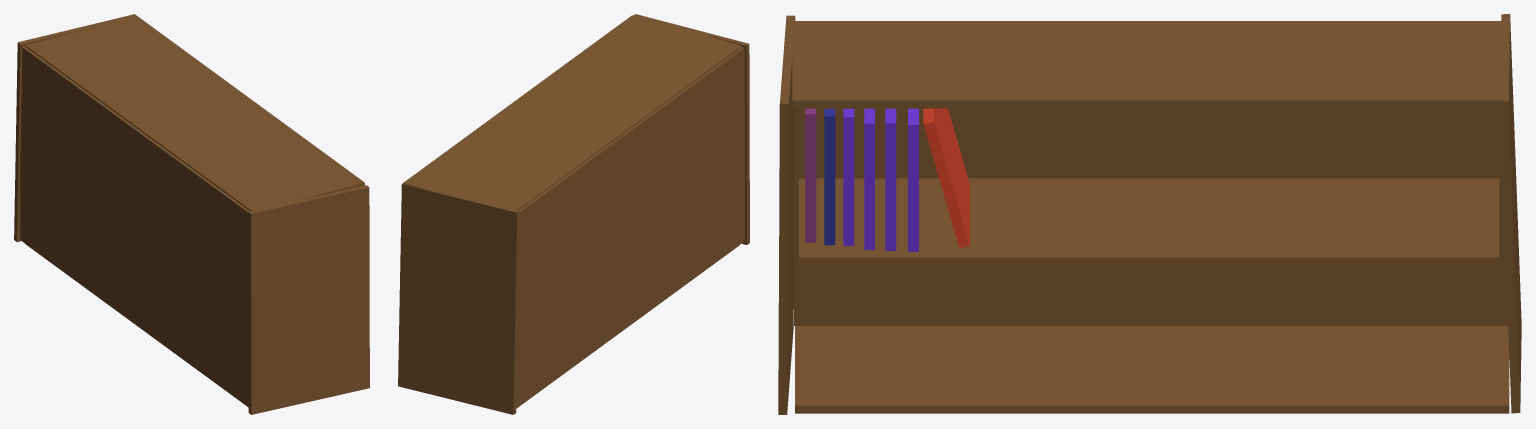
Rendered from 70sCabinet_w-o_doors.fbx.
3 renders of one model, left to right at view 1: azimuth 30°, elevation 25°; view 2: azimuth 150°, elevation 25°; view 3: azimuth 270°, elevation 25°, orthographic. The views are drawn at different scales.
Parts seen in each view (by area): view 1: Cube, Cube.003, Cube.004, Cube.005; view 2: Cube, Cube.003, Cube.005, Cube.004; view 3: Cube, Cube.001, Cube.003, Cube.002, Cube.004, Cube.005, Cube.012, Cube.014, Cube.011, Cube.010, Cube.009, Cube.015 (+1 smaller).
Part boxes in pixels (x1,y1,x2,y2): Cube: (20, 46, 249, 406); Cube.003: (25, 14, 364, 211); Cube.004: (248, 185, 369, 414); Cube.005: (14, 16, 123, 241); Cube: (516, 47, 744, 407); Cube.003: (403, 15, 741, 210); Cube.005: (398, 183, 519, 414); Cube.004: (634, 14, 749, 244); Cube: (794, 108, 1508, 325); Cube.001: (795, 326, 1509, 413); Cube.003: (792, 21, 1506, 108); Cube.002: (799, 178, 1499, 265); Cube.004: (778, 15, 795, 414); Cube.005: (1500, 14, 1521, 413); Cube.012: (923, 108, 969, 248); Cube.014: (885, 108, 896, 250); Cube.011: (843, 108, 854, 245); Cube.010: (824, 108, 835, 245); Cube.009: (805, 108, 816, 242); Cube.015: (908, 108, 918, 251).
Size of the model in its own units: 127 by 210 by 447.
